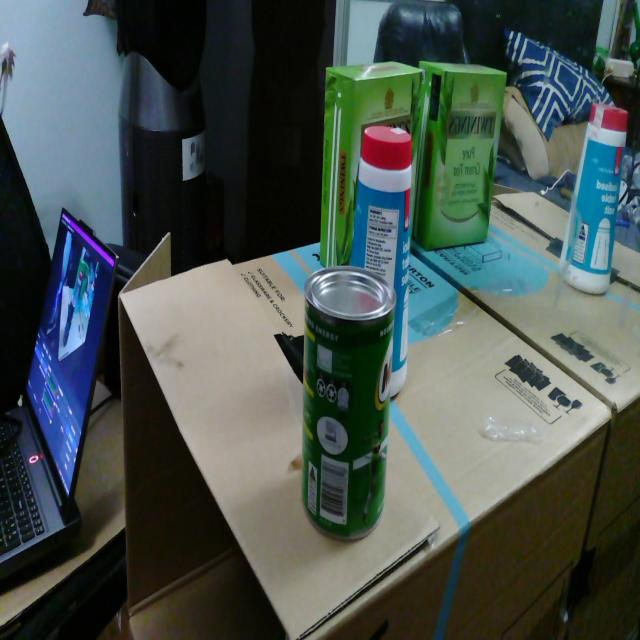nestle_milo_tin: (301, 265, 396, 541)
twinings_greentea_box: (320, 62, 425, 268)
woolworths_salt_bottle: (350, 126, 412, 396)
